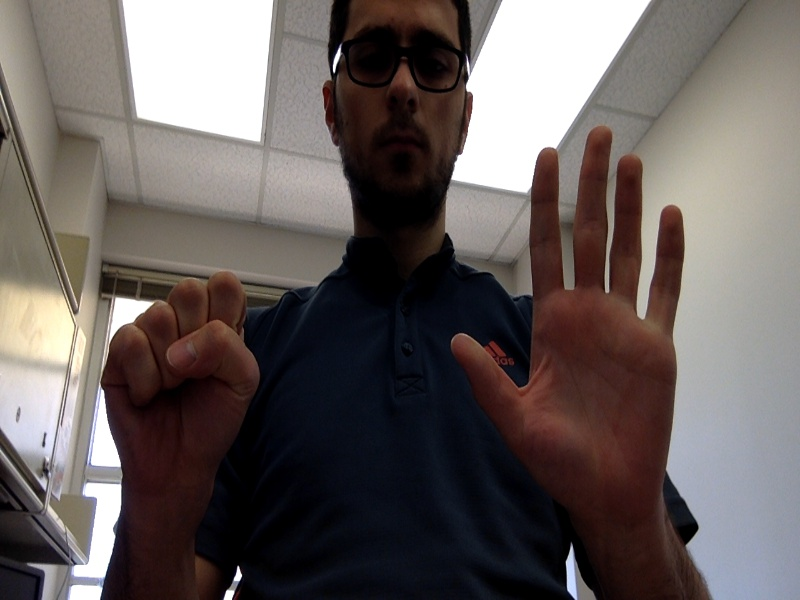0-hand: (100, 271, 261, 498)
5-hand: (450, 126, 686, 526)
